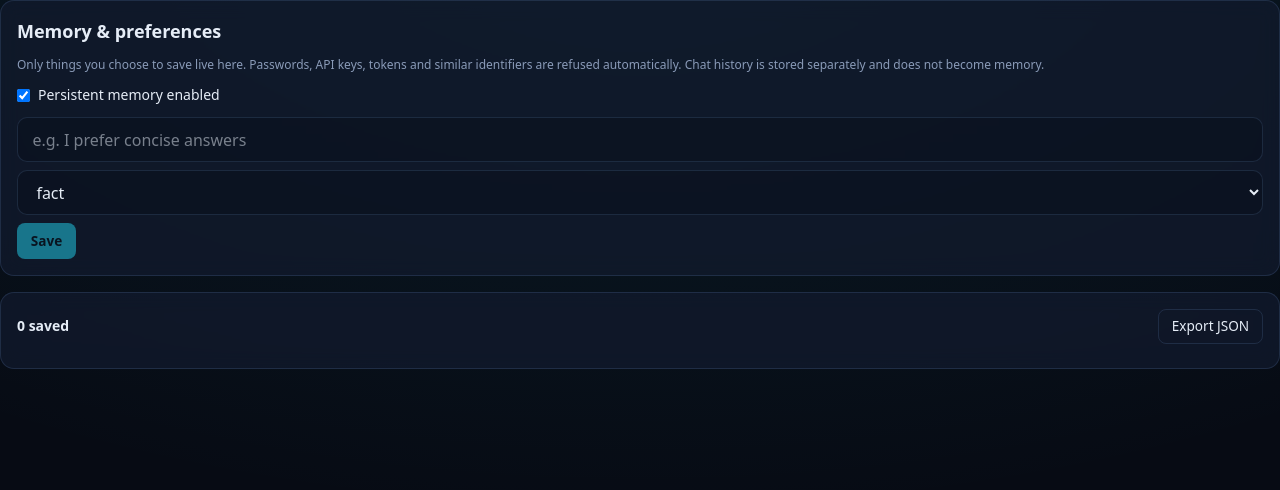
Test: Memory page › shows the secret-refusal message from the backend and does not clear the input
The width and height of the screenshot is (1280, 490).
Type "my password is hunter2hunter2" into the field named "New memory".
click(640, 140); type("my password is hunter2hunter2")  # box [17, 117, 1263, 162]
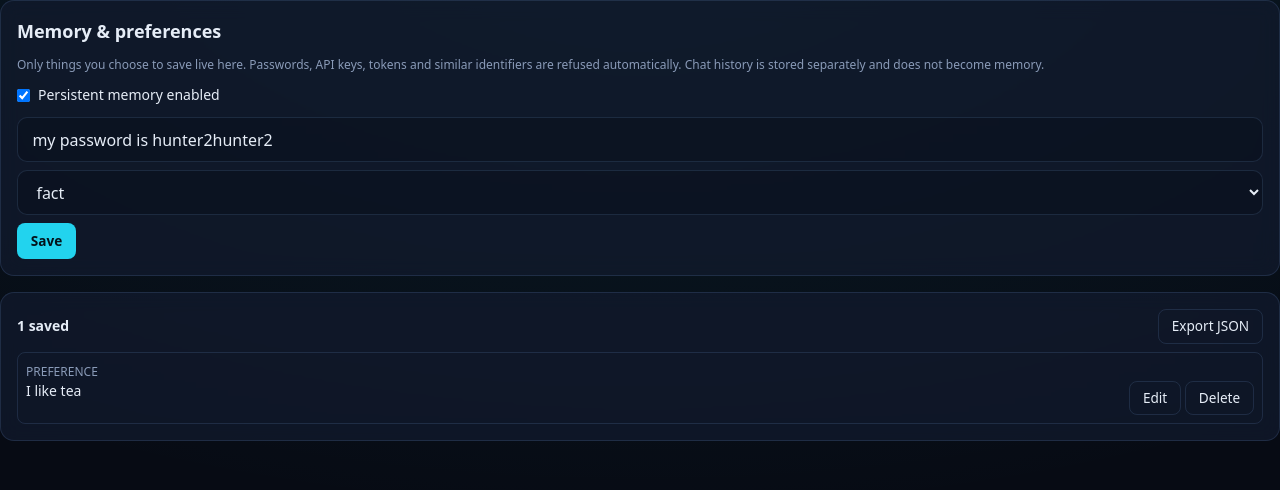
Click the button "Save".
click(47, 241)  # box [17, 223, 76, 259]
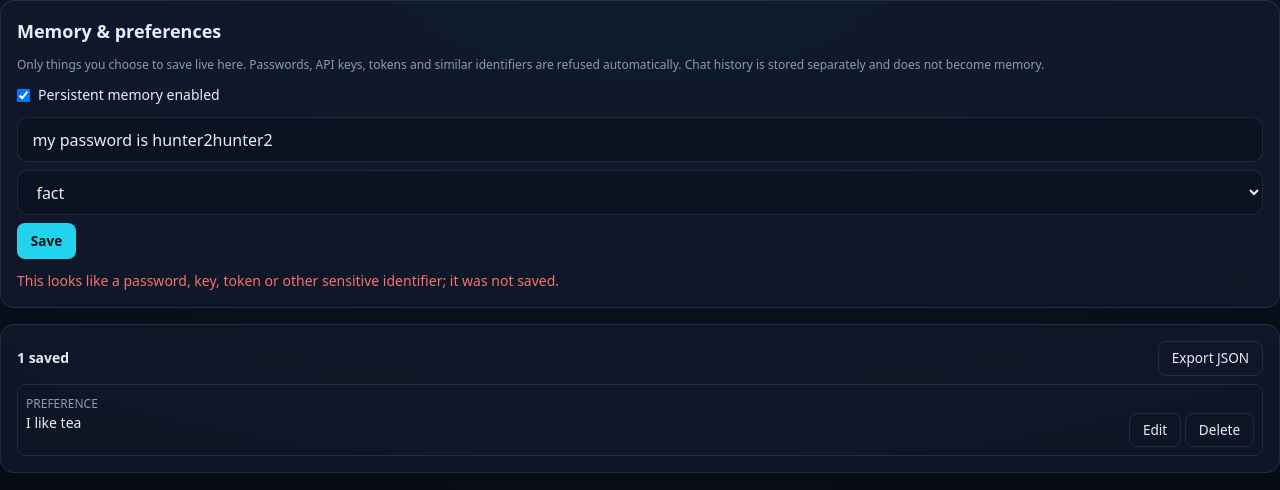
Now the message shows "not saved", box [17, 270, 559, 290]
